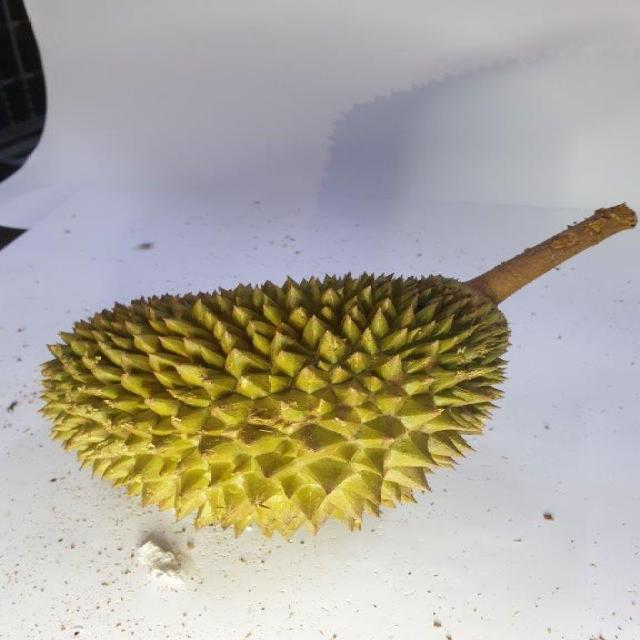immature: (31, 273, 528, 533)
